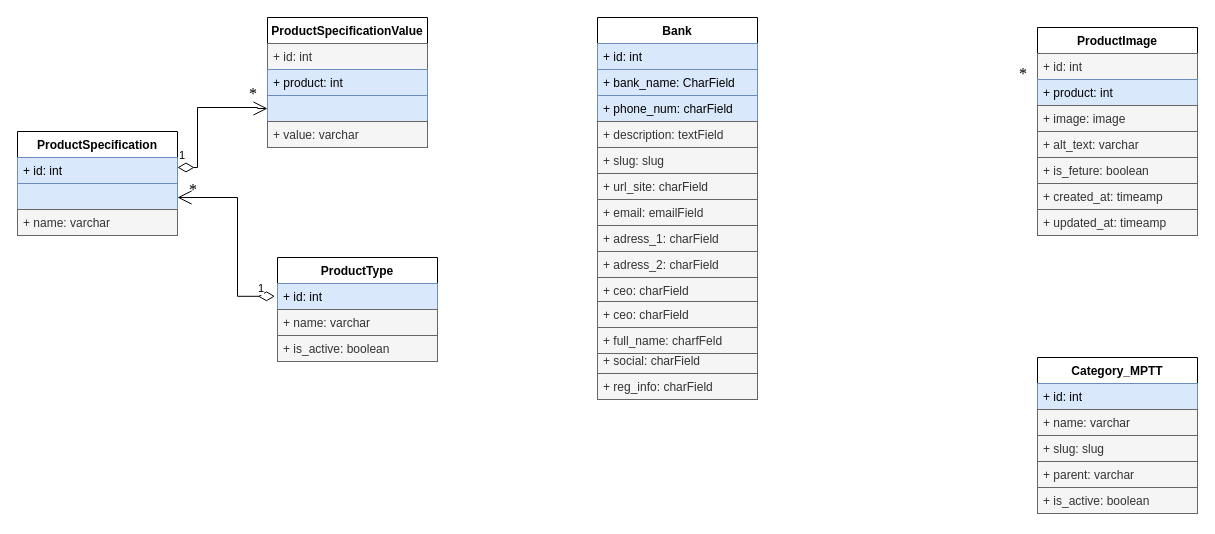
The diagram is 1215 pixels wide and 534 high, and some of its shapes have lost their labels. Here are the shapes that lost their labels. From the top down, the centre of each, then its label:
the point at 347,108: + specification: int
the point at 97,196: + product_type: int
